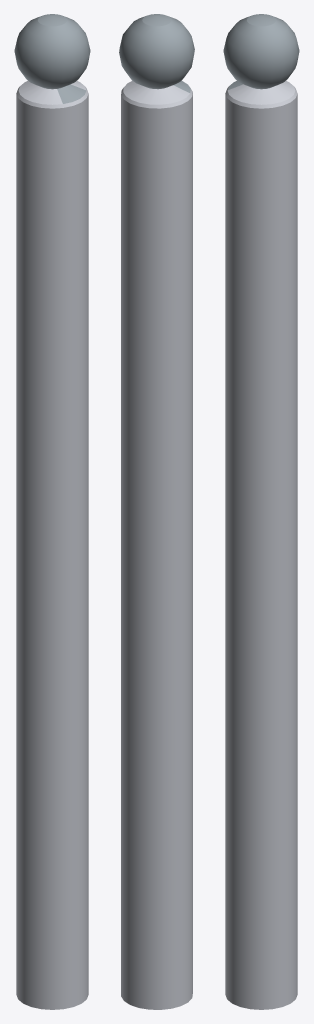
File: MetalFencePost.fbx
3 renders of one model, left to right at view 1: azimuth 90°, elevation 25°; view 2: azimuth 150°, elevation 25°; view 3: azimuth 270°, elevation 25°, orthographic.
Parts seen in each view (by area): view 1: MetalFencePost; view 2: MetalFencePost; view 3: MetalFencePost.
Part boxes in pixels (<box>): MetalFencePost: <box>14,14,90,1009</box>; MetalFencePost: <box>119,14,194,1009</box>; MetalFencePost: <box>223,14,299,1009</box>.
Size of the model in its own units: 11.27 by 160 by 11.27.
